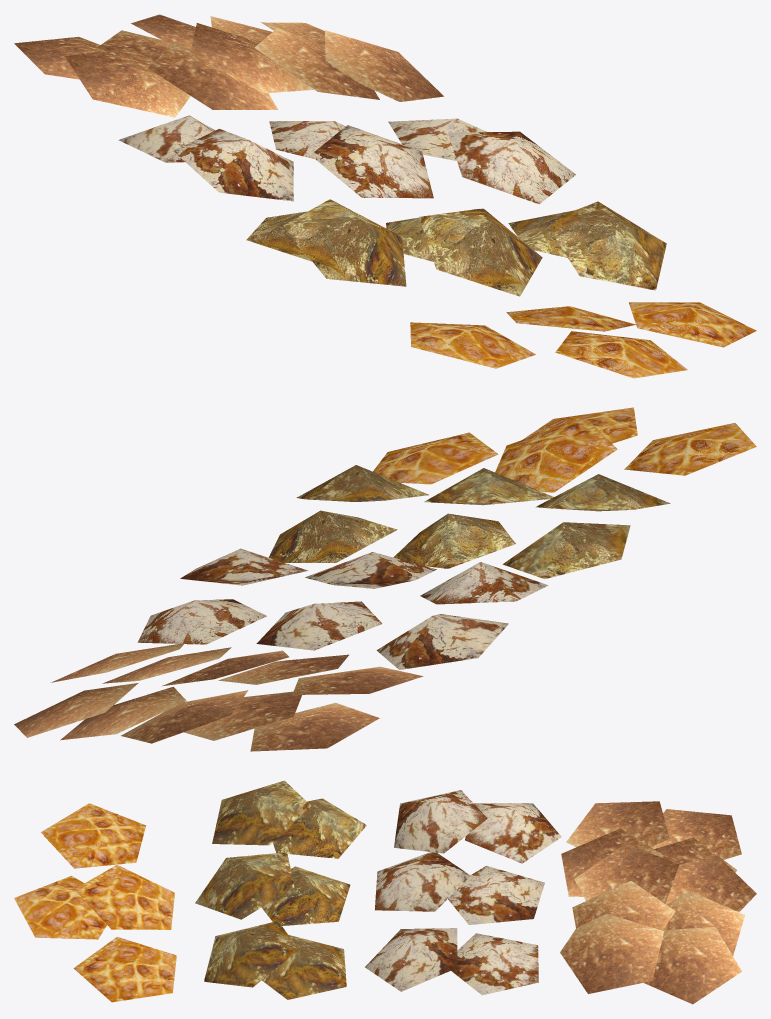
Rendered from bread_booth01_LOD04.fbx.
3 views of the same model, one above another, from view 1: azimuth 30°, elevation 25°; view 2: azimuth 150°, elevation 25°; view 3: azimuth 270°, elevation 25° (orthographic). The views are drawn at different scales.
Visible parts, largest first — view 1: Mesh Object; view 2: Mesh Object; view 3: Mesh Object.
Part boxes in pixels (x1,y1,x2,y2): Mesh Object: (14,14,756,378); Mesh Object: (14,407,756,751); Mesh Object: (14,780,756,1004).
Size of the model in its own units: 0.8383 by 0.2527 by 1.84.
